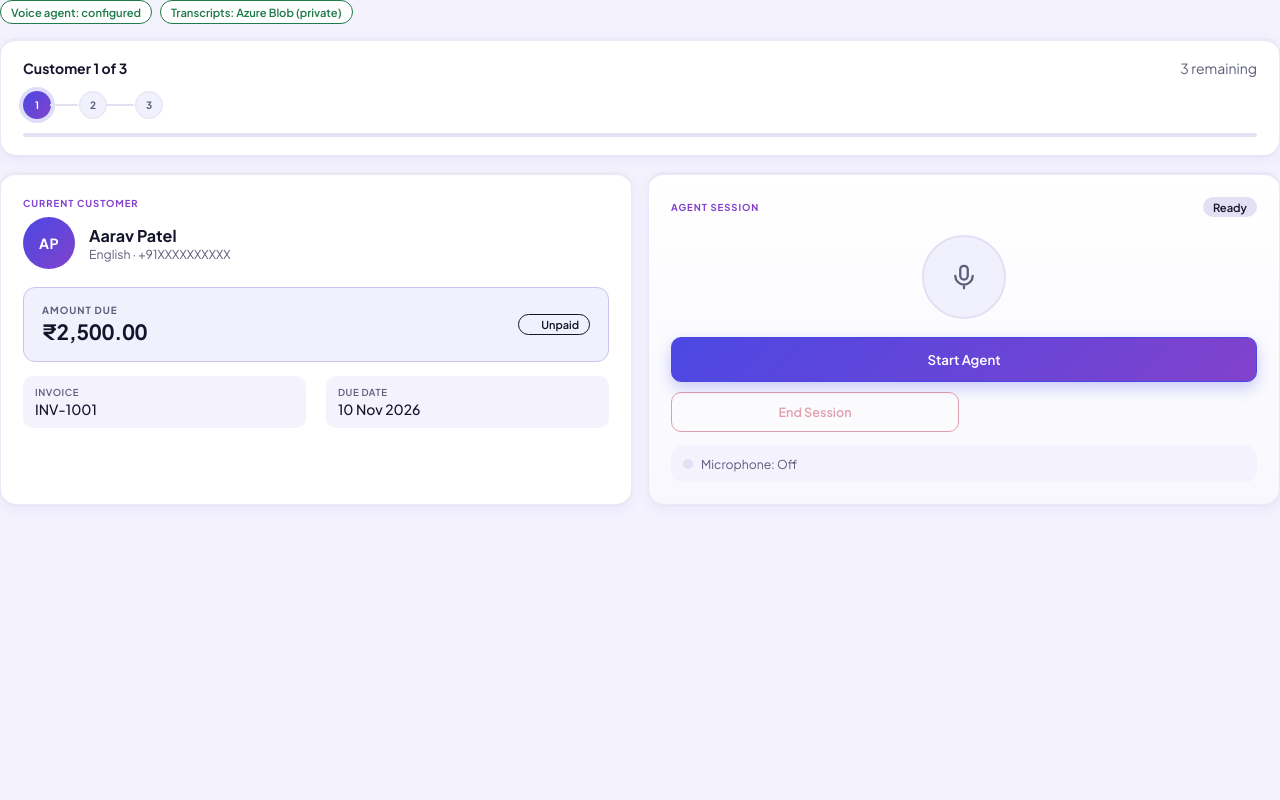
it: Dashboard › runs a voice session for the current customer and advances after End Session
Later steps or results of the test are not shown.
What coordinates should you click on to do the following:
click the button "Start Agent"
I would click on:
 (964, 360)
Its box is [671,337,1257,382].
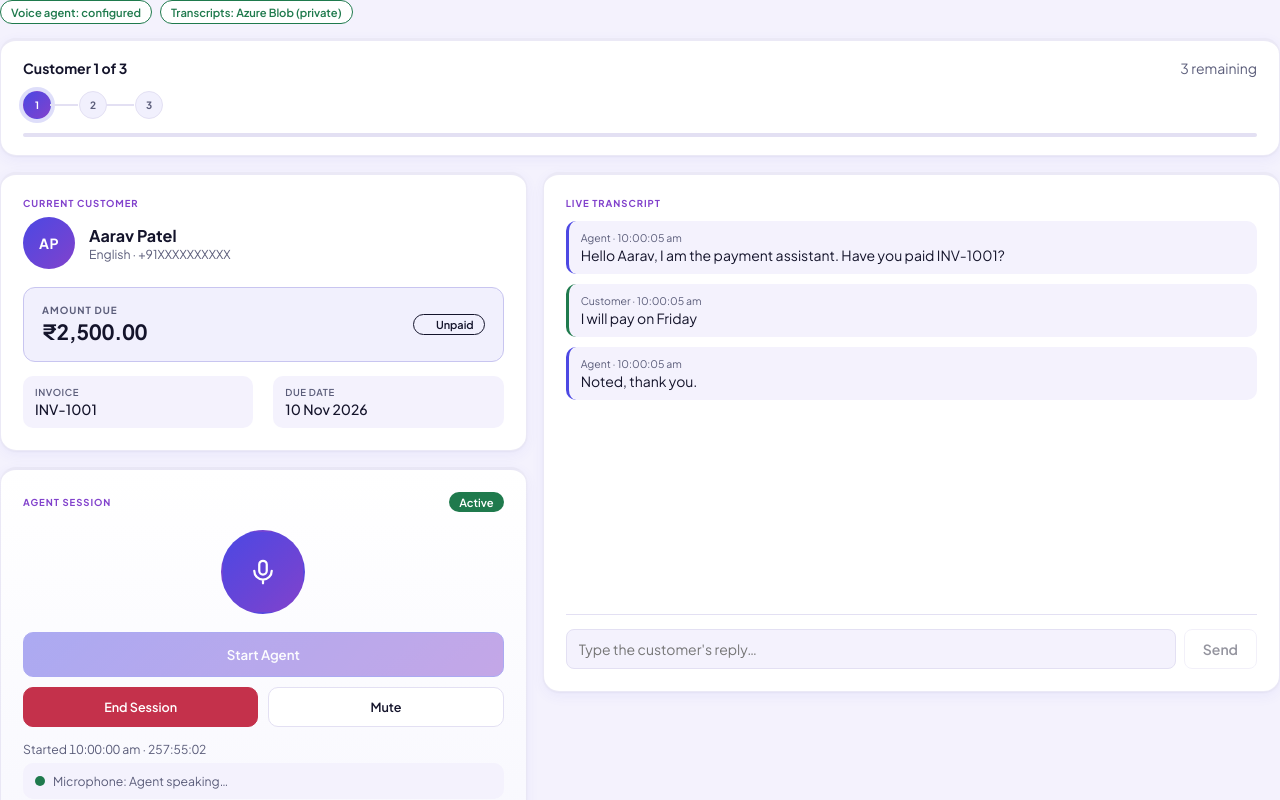
Expected: the text with test id "session-status" reads "Active", [459,495,494,509]
Expected: the text "Hello Aarav, I am the payment assistant. Have you paid INV-1001?" is shown, [581,246,1005,264]
Expected: the text "I will pay on Friday" is shown, [581,309,697,327]
What coordinates should you click on to do the following:
click the button "Mute"
I would click on:
 (386, 707)
Its box is [268,687,504,727].
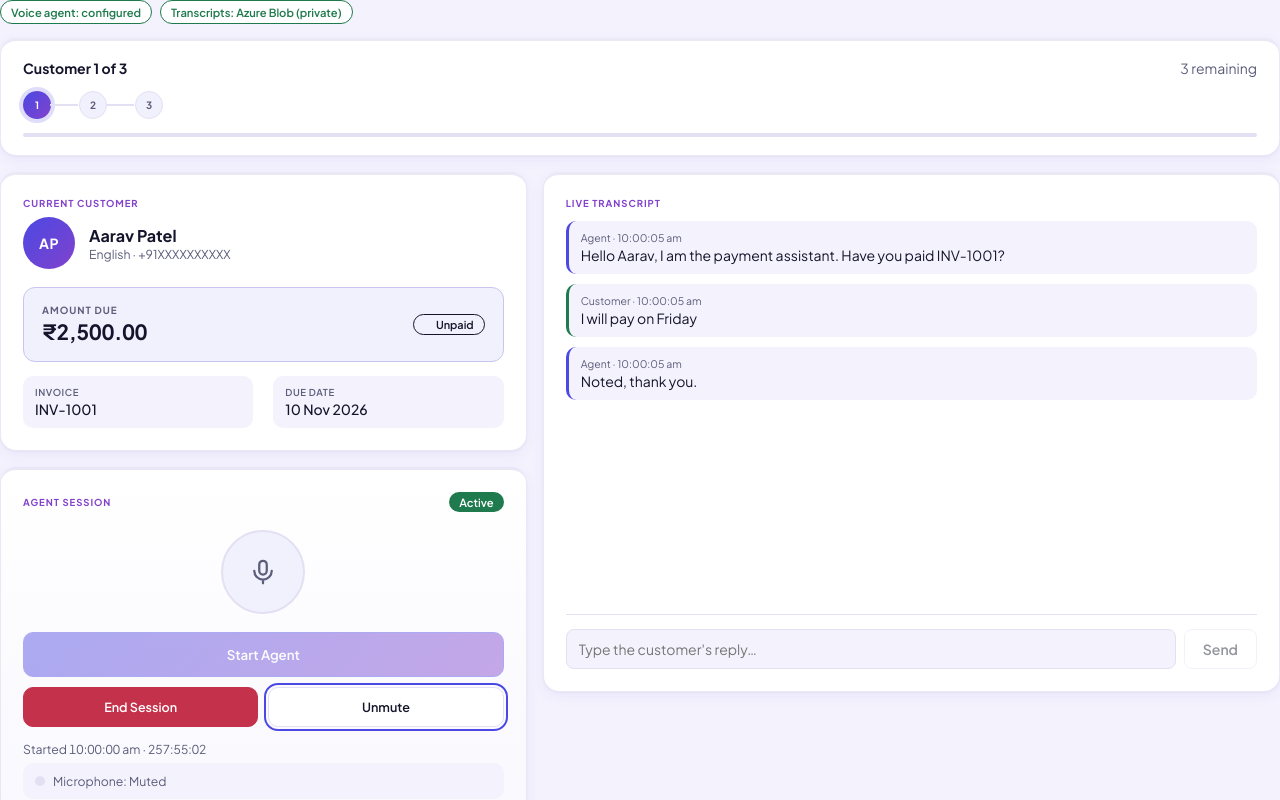
Expected: the element with test id "mic-state" shows "Muted", [129,773,166,789]
What coordinates should you click on to do the following:
click the button "End Session"
I would click on:
 (141, 707)
Its box is [23,687,258,727].
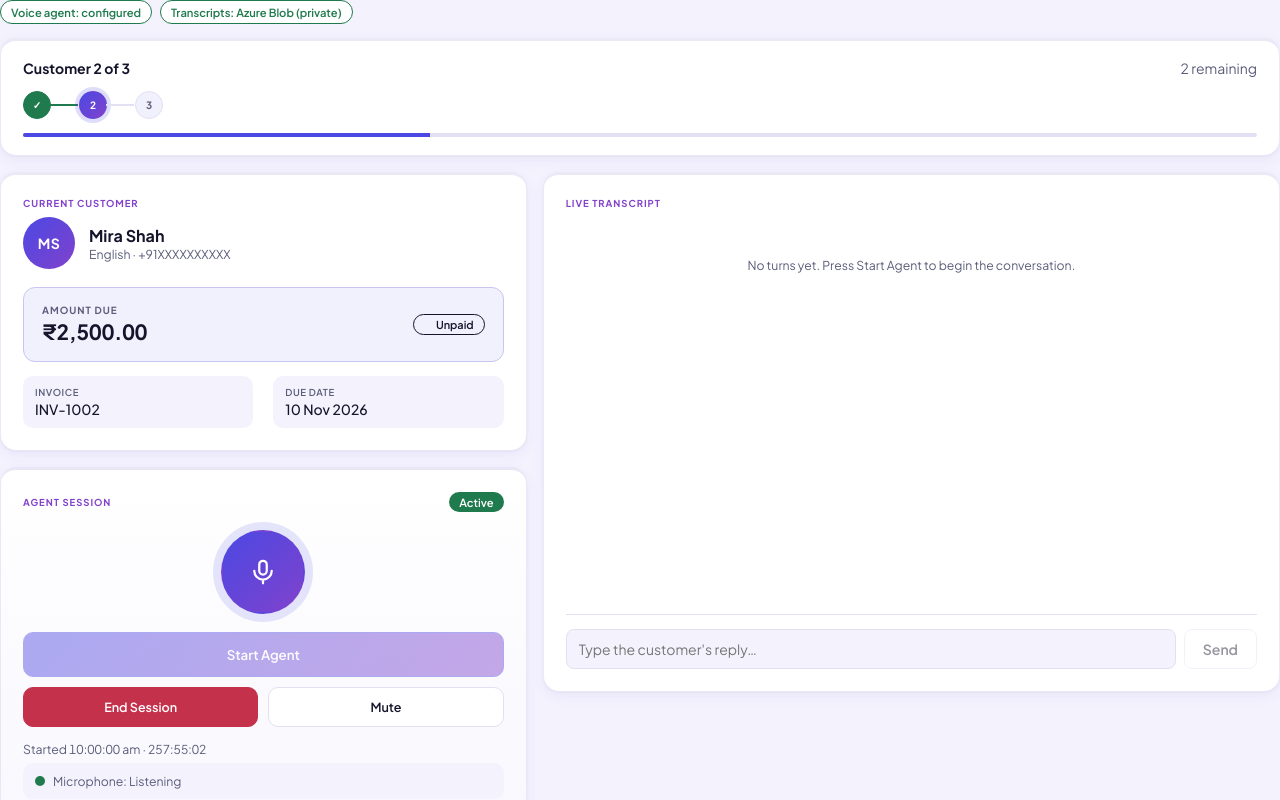
Expected: the text "Customer 2 of 3" is shown, [23,59,130,77]
Expected: the heading "Mira Shah" is shown, [89,224,164,246]
